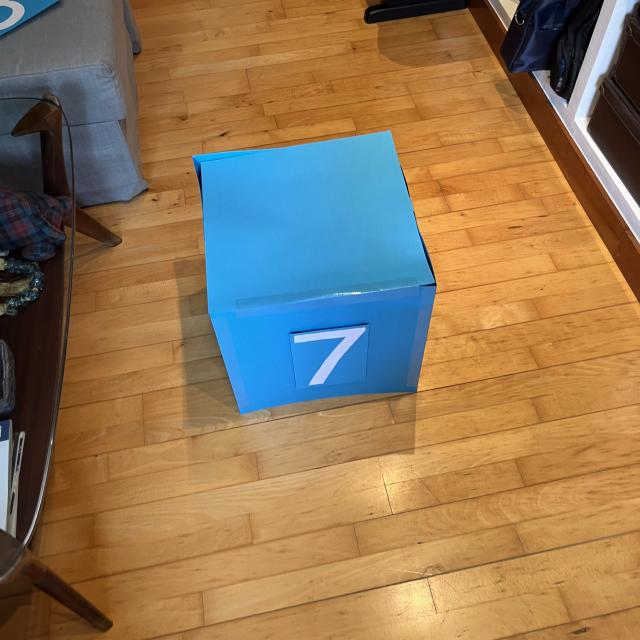box: (187, 127, 441, 417)
